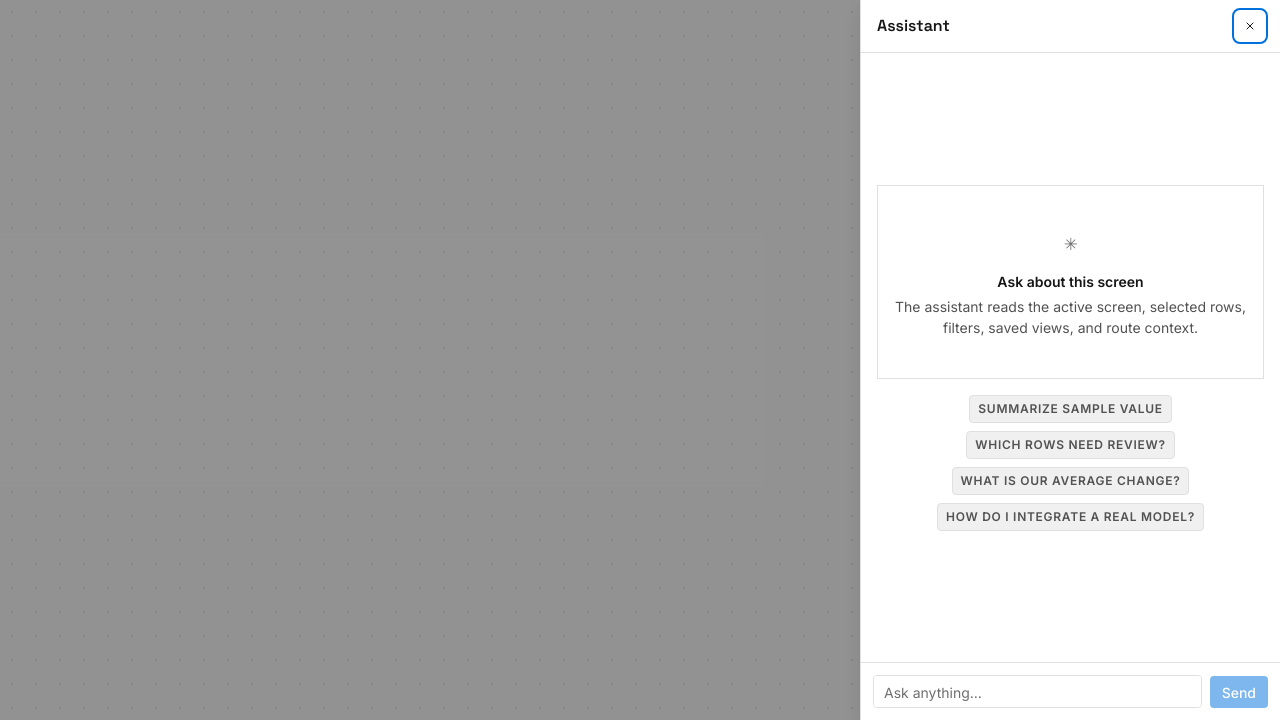
Test: AssistantPanel › typed question goes through the composer
The width and height of the screenshot is (1280, 720).
In the text box named "Message the assistant": point(1037, 692) [873,675,1202,708], type "which rows need review?"
Then press Enter
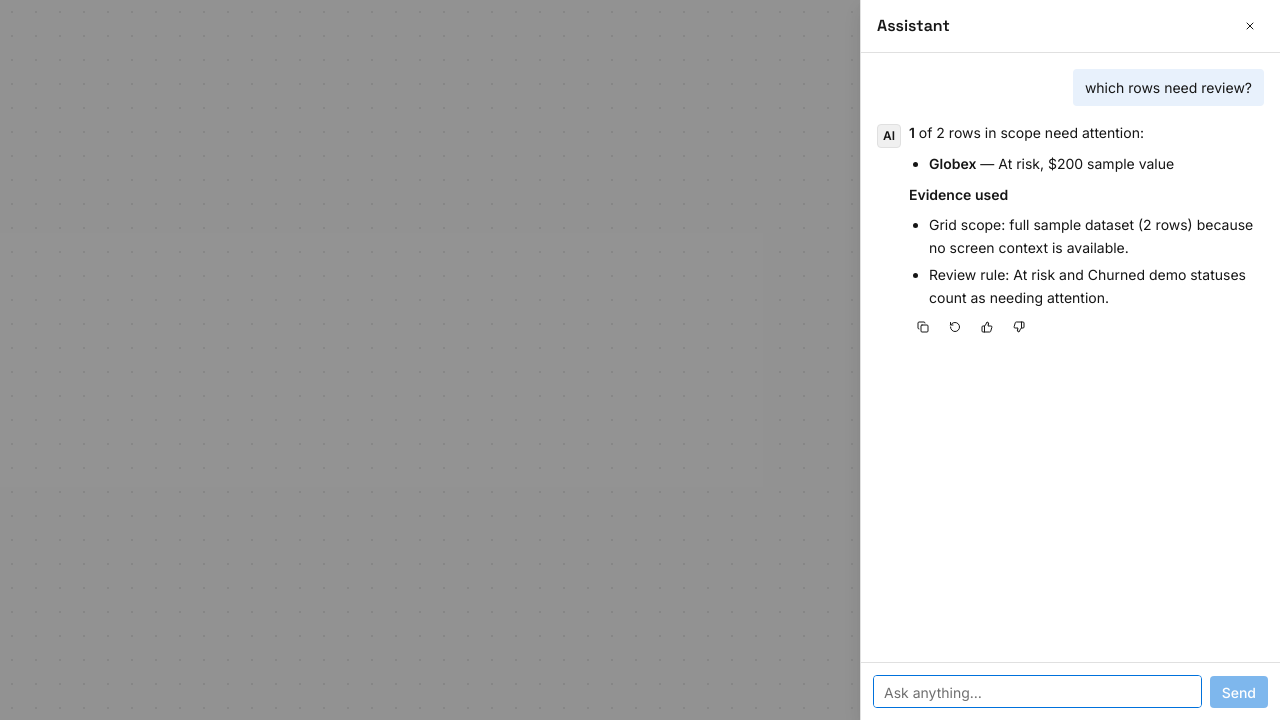
Now the text "Globex" is shown, box [929,155,976,172]
